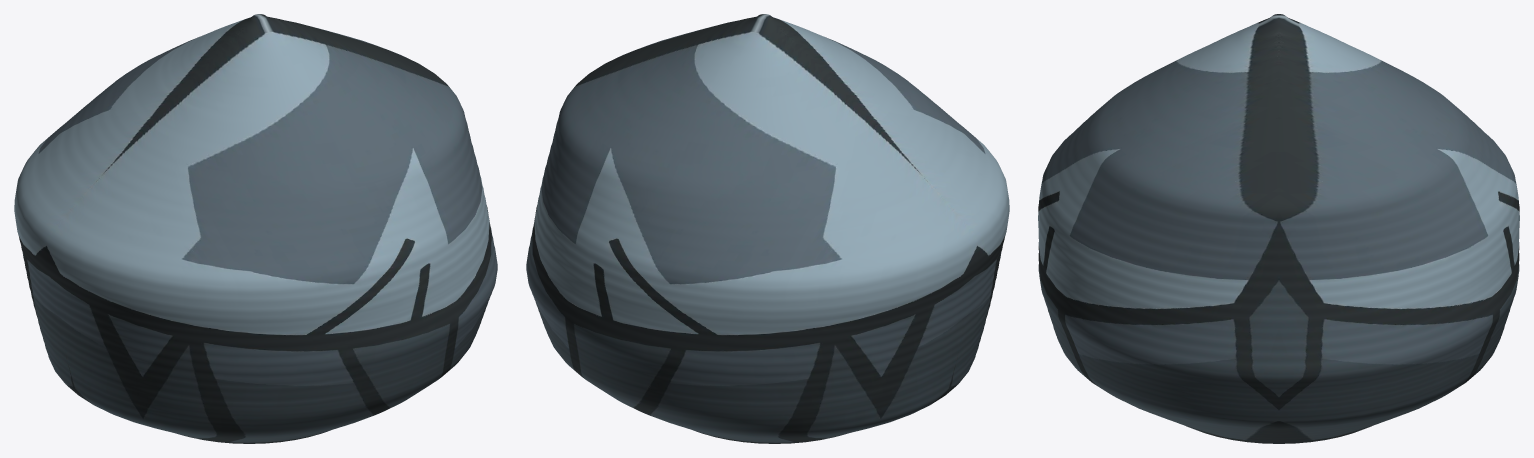
The model's file is blue_boulder.glb.
3 views of the same model, side by side, from view 1: azimuth 30°, elevation 25°; view 2: azimuth 150°, elevation 25°; view 3: azimuth 270°, elevation 25° (orthographic).
Visible parts, largest first — view 1: blue_boulder; view 2: blue_boulder; view 3: blue_boulder.
Boxes of the visible parts, x1=… form: blue_boulder: x1=14, y1=14, x2=497, y2=443; blue_boulder: x1=526, y1=14, x2=1009, y2=443; blue_boulder: x1=1038, y1=14, x2=1519, y2=443.
Size of the model in its own units: 0.9981 by 0.8705 by 0.9747.
1 material, 1 textured.
